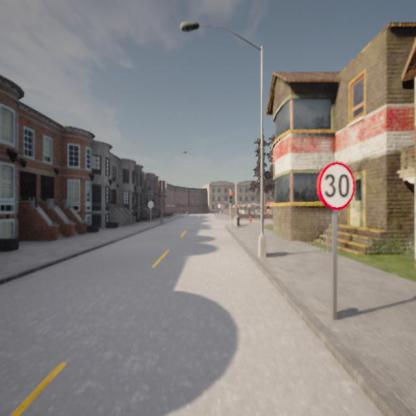traffic_light_red: (230, 192, 233, 204)
traffic_sign_30: (317, 161, 356, 210)
